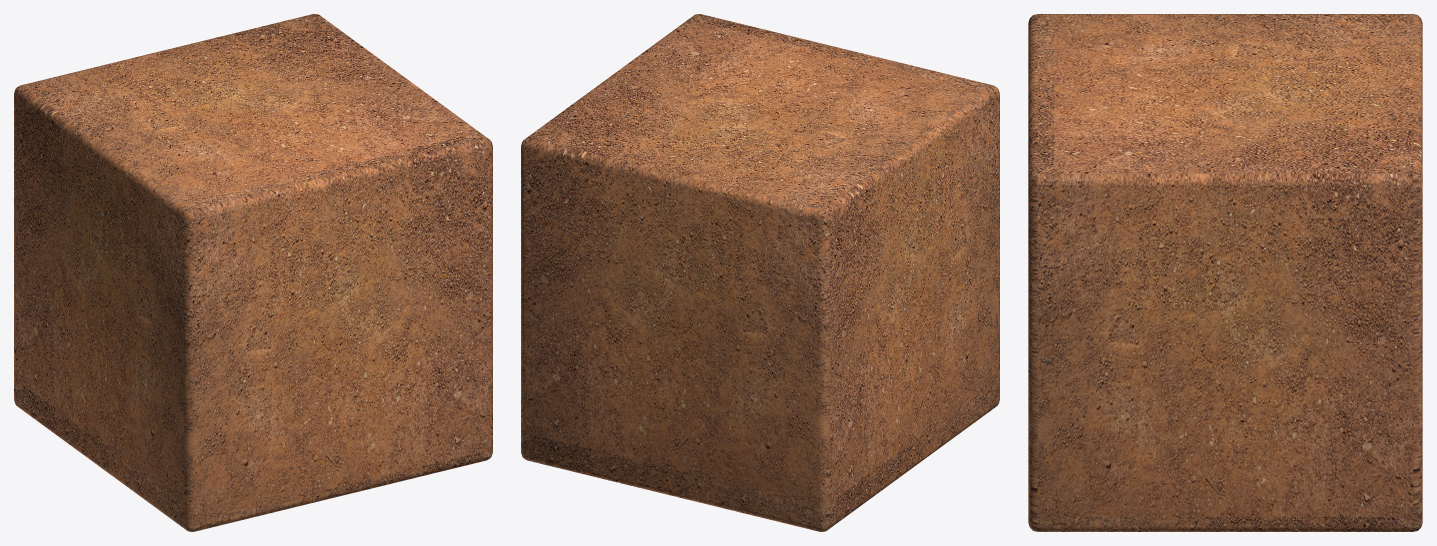
Rendered from dirt1.fbx.
3 views of the same model, side by side, from view 1: azimuth 30°, elevation 25°; view 2: azimuth 150°, elevation 25°; view 3: azimuth 270°, elevation 25° (orthographic). The views are drawn at different scales.
Visible parts, largest first — view 1: Cube.001; view 2: Cube.001; view 3: Cube.001.
Boxes of the visible parts, x1,y1,x2,y2 form: Cube.001: [14, 14, 492, 531]; Cube.001: [521, 14, 999, 531]; Cube.001: [1028, 14, 1422, 531].
Bounding box in the file's own units: 200 × 200 × 200.
1 material, 1 textured.
